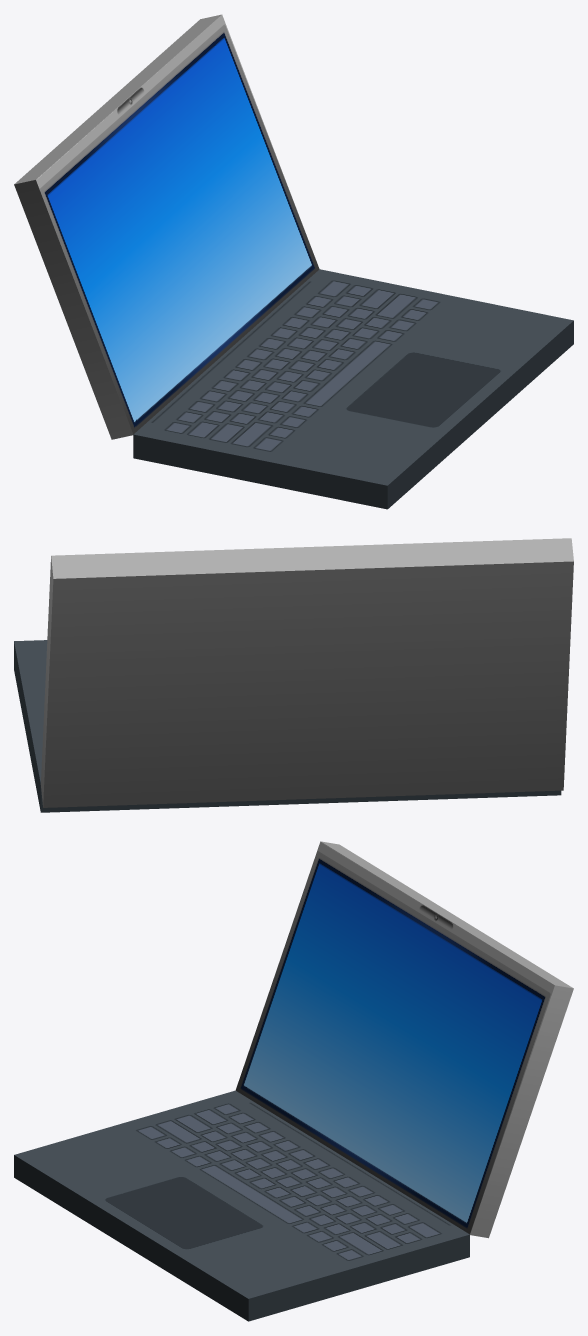
The model's file is laptop.glb.
The picture shows the model from 3 angles, top to bottom: view 1: azimuth 30°, elevation 25°; view 2: azimuth 150°, elevation 25°; view 3: azimuth 270°, elevation 25°; orthographic projection. The views are drawn at different scales.
Visible parts, largest first — view 1: Laptop Top, Laptop Bottom; view 2: Laptop Top, Laptop Bottom; view 3: Laptop Top, Laptop Bottom.
Part boxes in pixels (left/top/right/bottom): Laptop Top: left=14, top=14, right=319, bottom=439; Laptop Bottom: left=133, top=269, right=573, bottom=509; Laptop Top: left=40, top=538, right=573, bottom=807; Laptop Bottom: left=14, top=640, right=561, bottom=812; Laptop Top: left=235, top=841, right=573, bottom=1238; Laptop Bottom: left=14, top=1090, right=469, bottom=1321.
Bounding box in the file's own units: 0.9073 × 0.4381 × 0.8997.
2 materials, 2 textured.
